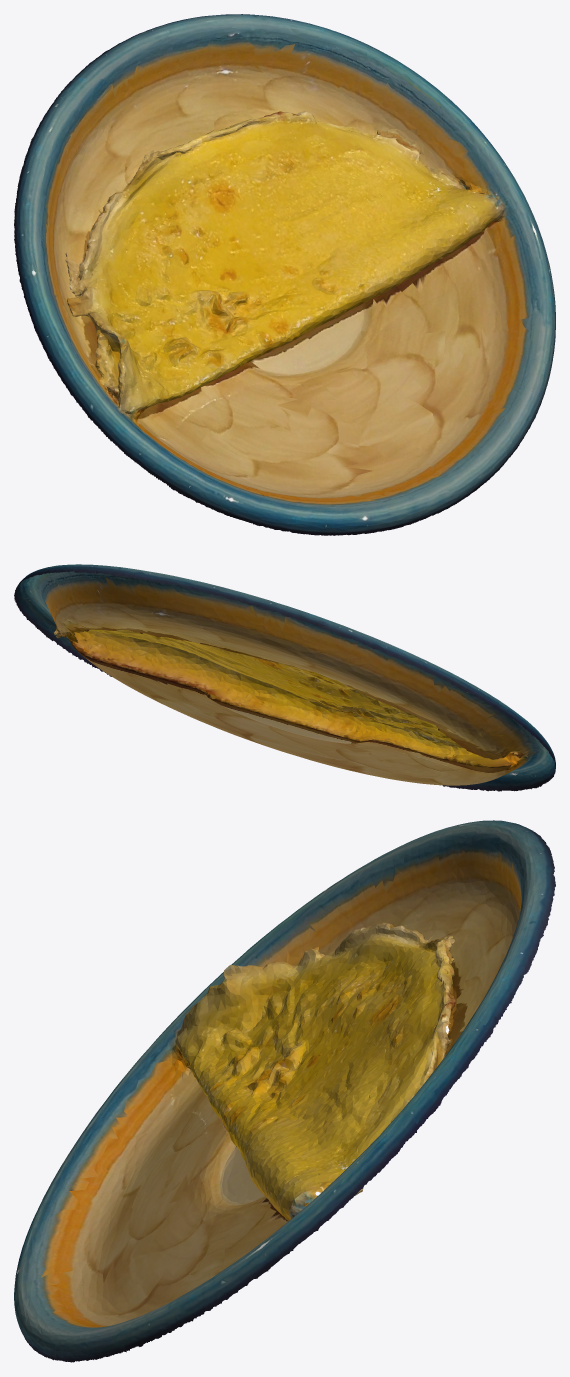
The model's file is Crepe_Kaese.fbx.
3 views of the same model, one above another, from view 1: azimuth 30°, elevation 25°; view 2: azimuth 150°, elevation 25°; view 3: azimuth 270°, elevation 25° (orthographic). The views are drawn at different scales.
Visible parts, largest first — view 1: Crepe Kaese_tex_high; view 2: Crepe Kaese_tex_high; view 3: Crepe Kaese_tex_high.
Part boxes in pixels (bbox=[...]): Crepe Kaese_tex_high: bbox=[14, 14, 555, 535]; Crepe Kaese_tex_high: bbox=[14, 564, 555, 791]; Crepe Kaese_tex_high: bbox=[14, 820, 555, 1362].
Size of the model in its own units: 19.8 by 13.38 by 14.9.
